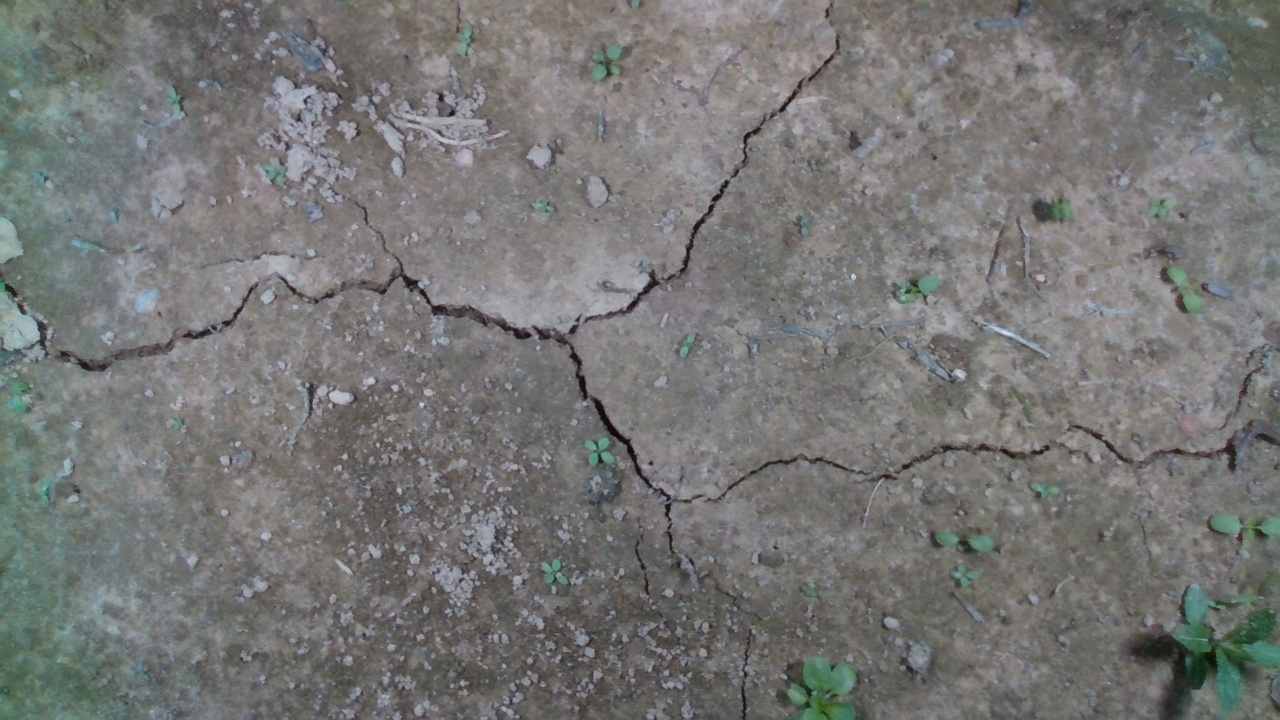weed: (885, 267, 957, 313), (580, 32, 630, 79), (1164, 266, 1205, 314), (1016, 471, 1063, 511), (530, 549, 582, 583), (663, 324, 699, 369), (1141, 182, 1175, 225), (933, 530, 997, 551), (573, 433, 612, 465), (948, 565, 984, 586), (262, 164, 290, 186)
